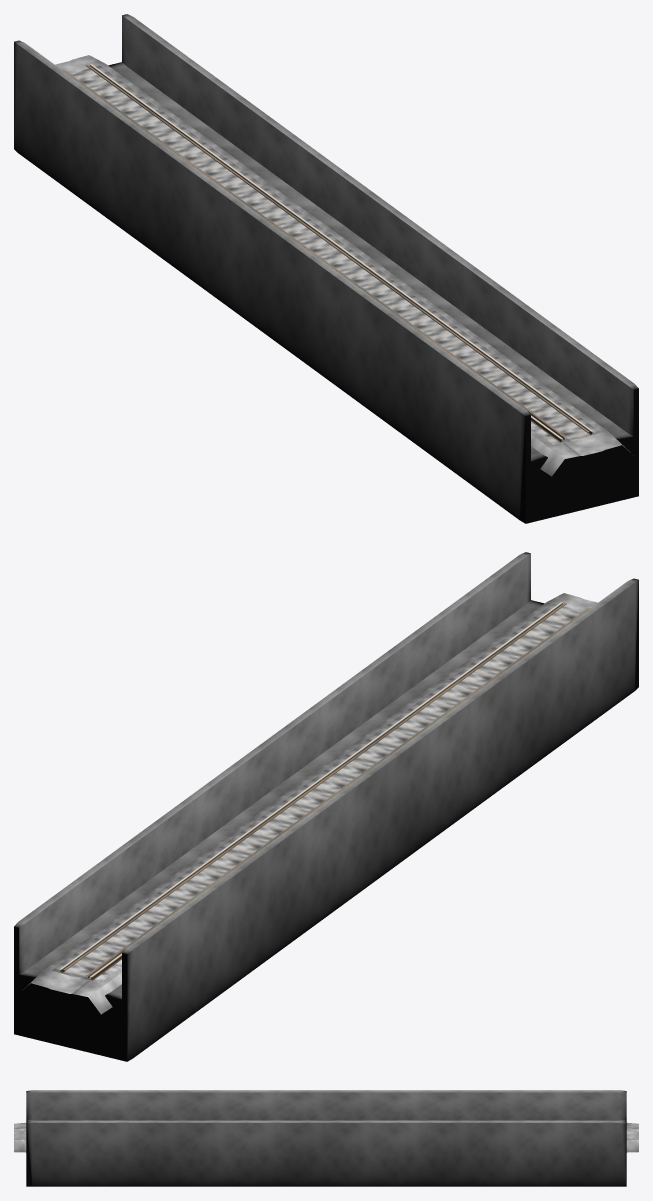
The model's file is NK_1RAIL_100_WALL.glb.
3 renders of one model, top to bottom at view 1: azimuth 30°, elevation 25°; view 2: azimuth 150°, elevation 25°; view 3: azimuth 270°, elevation 25°, orthographic. The views are drawn at different scales.
Parts seen in each view (by area): view 1: obj1, R000_RG_L, R000_RG_R; view 2: obj1, R000_RG_L, R000_RG_R; view 3: obj1.
Boxes of the visible parts, box(x1,y1,x2,y2) form: obj1: box(14, 14, 638, 523); R000_RG_L: box(86, 64, 589, 432); R000_RG_R: box(63, 70, 566, 439); obj1: box(14, 552, 638, 1061); R000_RG_L: box(63, 602, 566, 972); R000_RG_R: box(86, 608, 589, 978); obj1: box(14, 1090, 638, 1186).
Size of the model in its own units: 13.23 by 11.93 by 106.
7 materials, 7 textured.
